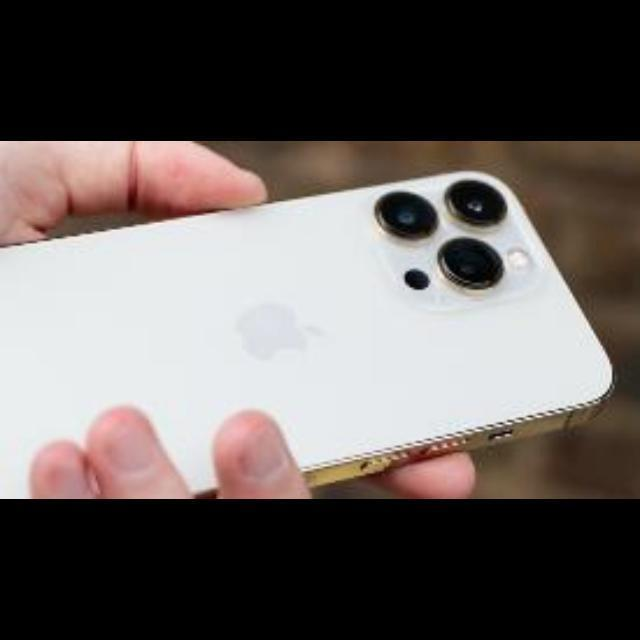PhoneUse: (2, 169, 618, 499)
